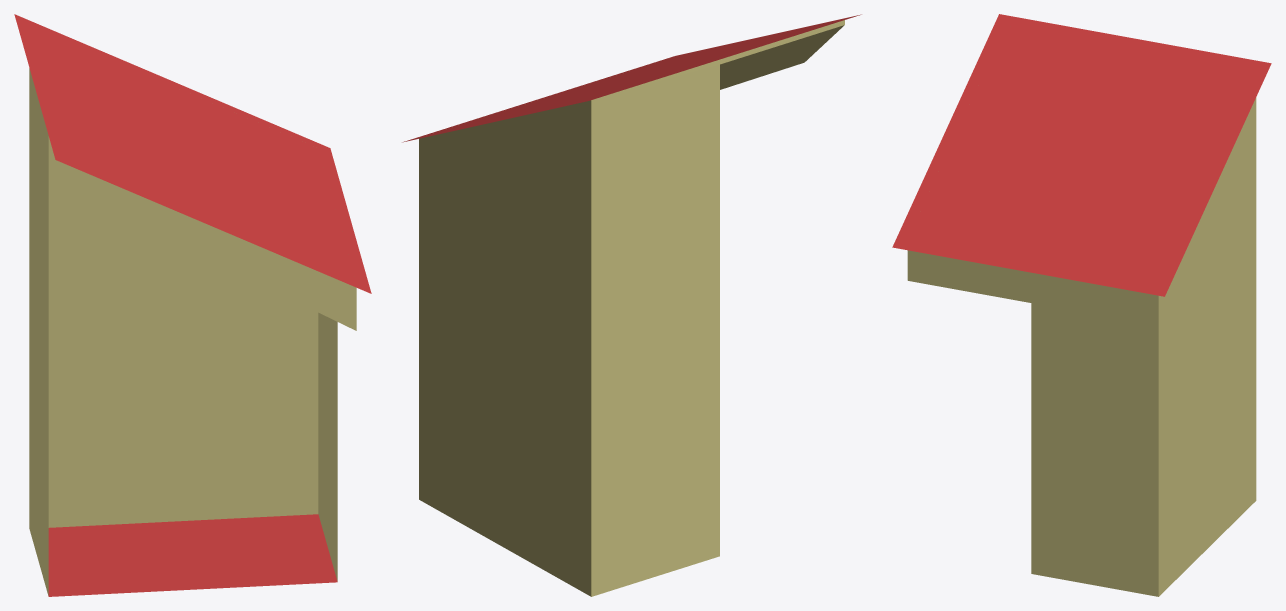
3 views of the same model, side by side, from view 1: azimuth 30°, elevation 25°; view 2: azimuth 150°, elevation 25°; view 3: azimuth 270°, elevation 25° (orthographic). The views are drawn at different scales.
Bounding box in the file's own units: 7.87 × 8.15 × 10.3.
